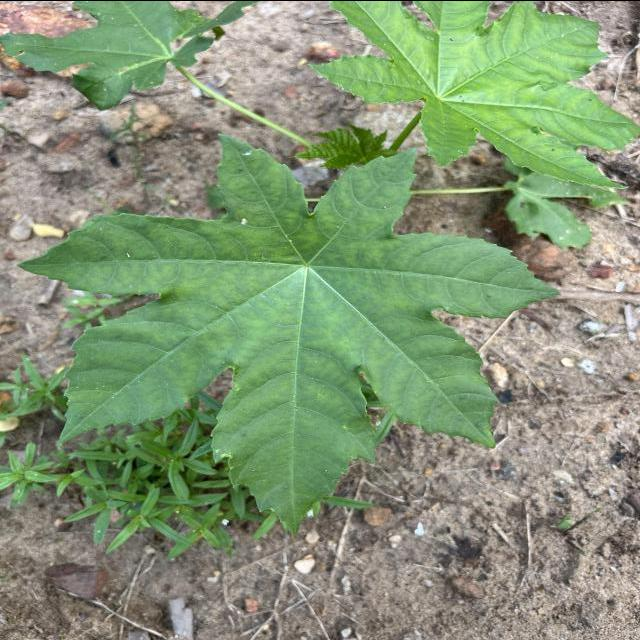Ricinus communis linn: (8, 128, 568, 542)
